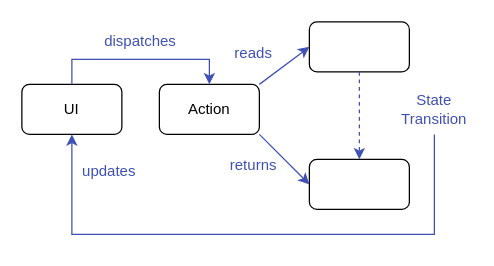
The diagram is 494 pixels wide and 266 high, and some of its shapes have lost their labels. Each missing label, with the centre of its shape:
"State A" goes at (358,46).
"State B" goes at (358,183).
